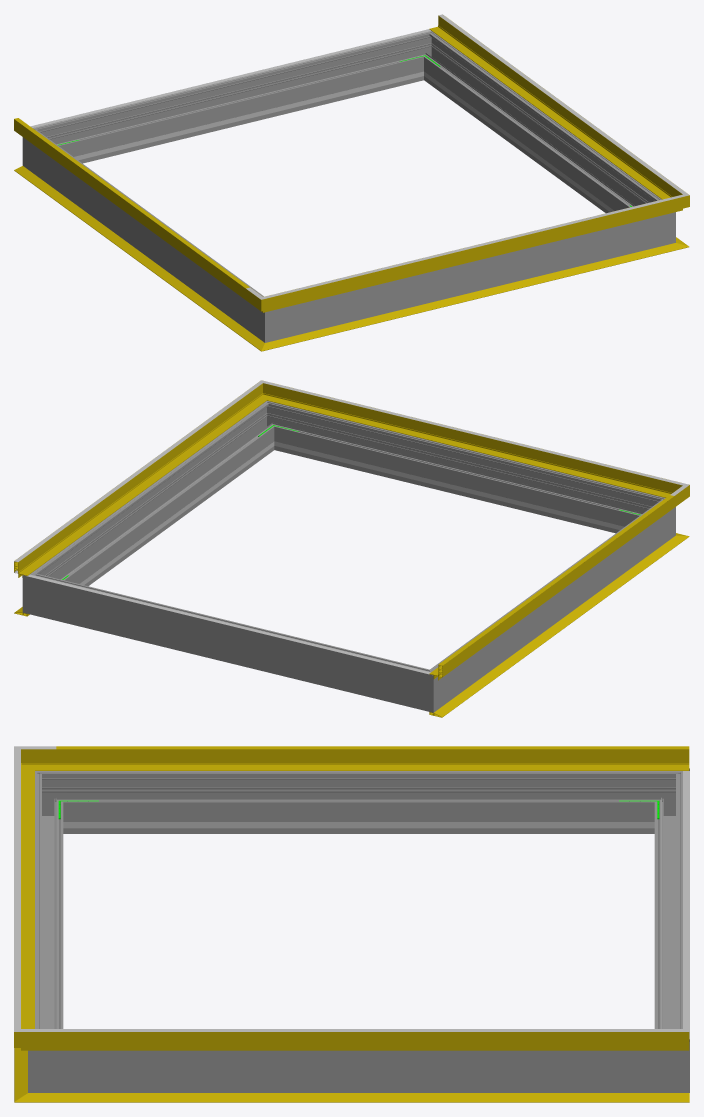
The picture shows the model from 3 angles, top to bottom: view 1: azimuth 30°, elevation 25°; view 2: azimuth 150°, elevation 25°; view 3: azimuth 270°, elevation 25°; orthographic projection. The views are drawn at different scales.
Visible parts, largest first — view 1: 3DGeom-276, 3DGeom-298, 3DGeom-297, 3DGeom-268, 3DGeom-56, 3DGeom-58, 3DGeom-28, 3DGeom-50, 3DGeom-38, 3DGeom-244, 3DGeom-270, 3DGeom-220 (+8 smaller); view 2: 3DGeom-298, 3DGeom-276, 3DGeom-297, 3DGeom-268, 3DGeom-56, 3DGeom-58, 3DGeom-50, 3DGeom-38, 3DGeom-278, 3DGeom-239, 3DGeom-220, 3DGeom-284 (+7 smaller); view 3: 3DGeom-268, 3DGeom-297, 3DGeom-50, 3DGeom-58, 3DGeom-30, 3DGeom-298, 3DGeom-276, 3DGeom-232, 3DGeom-56, 3DGeom-71, 3DGeom-64, 3DGeom-284 (+8 smaller).
Boxes of the visible parts, x1,y1,x2,y2 form: 3DGeom-276: (52, 36, 419, 163); 3DGeom-298: (291, 218, 648, 336); 3DGeom-297: (426, 40, 655, 213); 3DGeom-268: (38, 137, 257, 331); 3DGeom-56: (285, 202, 663, 307); 3DGeom-58: (429, 15, 669, 198); 3DGeom-28: (283, 247, 662, 344); 3DGeom-50: (14, 119, 245, 299); 3DGeom-38: (14, 166, 254, 339); 3DGeom-244: (83, 78, 398, 158); 3DGeom-270: (249, 292, 291, 342); 3DGeom-220: (30, 29, 430, 127); 3DGeom-298: (279, 406, 646, 533); 3DGeom-276: (49, 578, 411, 706); 3DGeom-297: (42, 410, 271, 586); 3DGeom-268: (440, 507, 660, 701); 3DGeom-56: (280, 388, 660, 495); 3DGeom-58: (14, 393, 258, 577); 3DGeom-50: (429, 496, 674, 680); 3DGeom-38: (429, 543, 673, 717); 3DGeom-278: (406, 662, 448, 712); 3DGeom-239: (300, 447, 614, 528); 3DGeom-220: (27, 574, 430, 674); 3DGeom-284: (22, 565, 53, 618); 3DGeom-268: (70, 771, 647, 833); 3DGeom-297: (70, 1050, 647, 1092); 3DGeom-50: (56, 749, 689, 770); 3DGeom-58: (56, 1032, 689, 1050); 3DGeom-30: (56, 1093, 689, 1102); 3DGeom-298: (35, 786, 63, 1028); 3DGeom-276: (654, 786, 682, 1028); 3DGeom-232: (104, 822, 613, 828); 3DGeom-56: (21, 777, 34, 1028); 3DGeom-71: (56, 746, 689, 749); 3DGeom-64: (56, 1029, 689, 1031); 3DGeom-284: (647, 1024, 689, 1092).
Bounding box in the file's own units: 2.44 × 0.2831 × 2.44.
